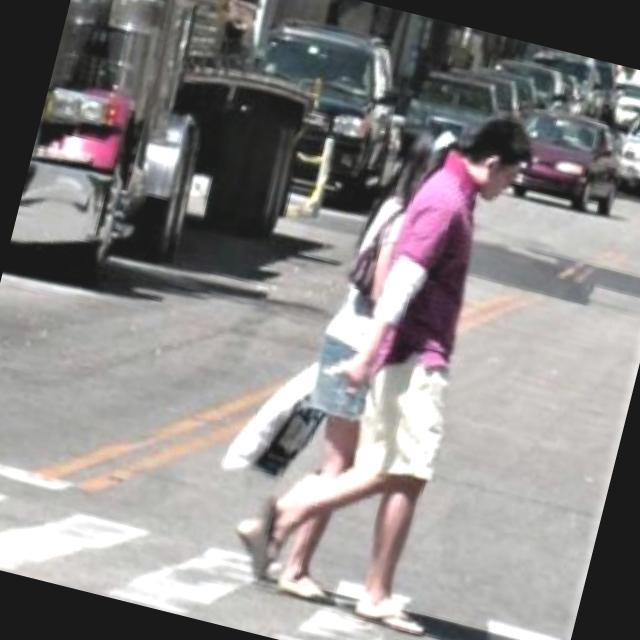Person: (241, 79, 552, 640), (222, 91, 464, 616)
